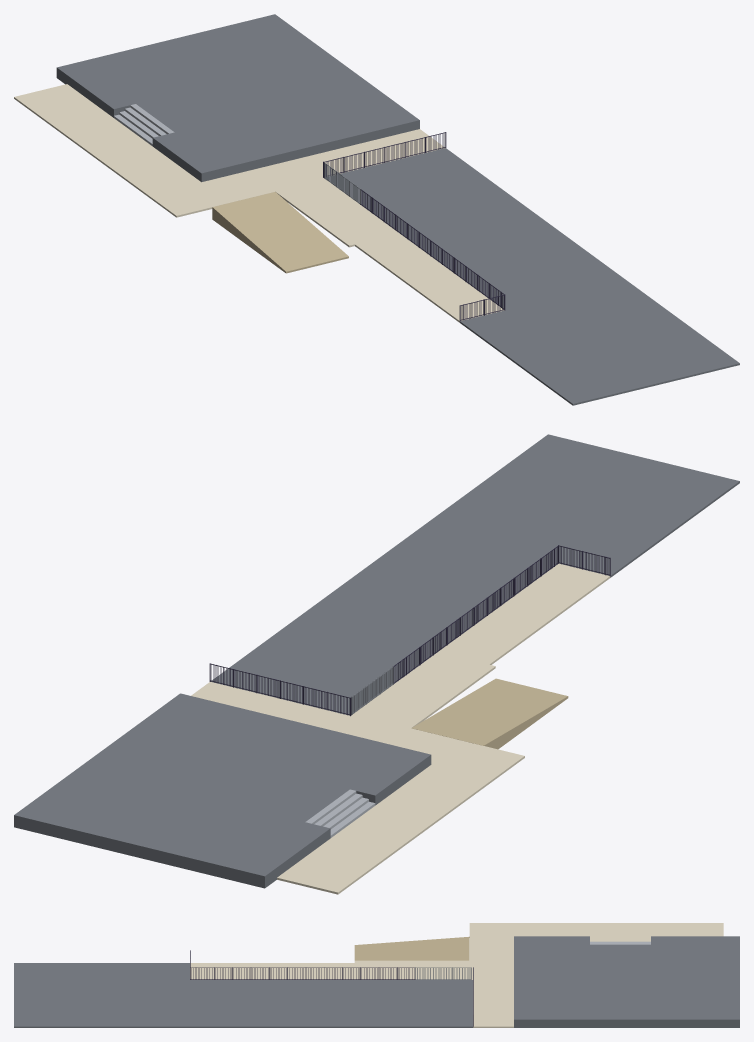
The model's file is Externo.glb.
The picture shows the model from 3 angles, top to bottom: view 1: azimuth 30°, elevation 25°; view 2: azimuth 150°, elevation 25°; view 3: azimuth 270°, elevation 25°; orthographic projection. The views are drawn at different scales.
Parts seen in each view (by area): view 1: E1, E2, Circulação externa, Rampa, Grade 3, Grade 1, 2–3 degraus; view 2: E1, E2, Circulação externa, Rampa, Grade 3, Grade 1, 2–3 degraus, portão (pedestres); view 3: E1, E2, Circulação externa, Rampa, Grade 3, portão (pedestres), 2–3 degraus.
Boxes of the visible parts, x1,y1,x2,y2 form: E1: [326, 148, 739, 405]; E2: [56, 14, 419, 182]; Circulação externa: [14, 84, 504, 322]; Rampa: [212, 192, 348, 273]; Grade 3: [360, 189, 505, 321]; Grade 1: [323, 132, 446, 177]; 2–3 degraus: [114, 104, 174, 145]; E1: [210, 434, 739, 715]; E2: [14, 693, 431, 888]; Circulação externa: [191, 563, 610, 894]; Rampa: [411, 678, 568, 749]; Grade 3: [393, 545, 610, 683]; Grade 1: [209, 663, 351, 716]; 2–3 degraus: [305, 789, 375, 837]; portão (pedestres): [351, 666, 393, 714]; E1: [14, 963, 473, 1027]; E2: [514, 936, 739, 1027]; Circulação externa: [190, 923, 723, 1027]; Rampa: [354, 936, 469, 960]; Grade 3: [190, 950, 415, 979]; portão (pedestres): [415, 967, 471, 979]; 2–3 degraus: [590, 941, 650, 944].
Bounding box in the file's own units: 322 × 32.08 × 953.
